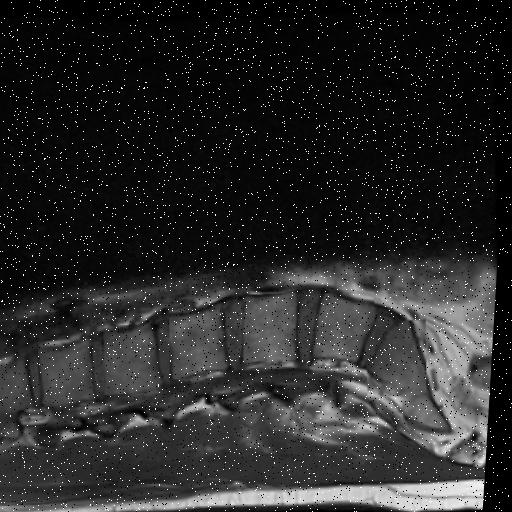L1: (43, 339, 98, 402)
L2: (108, 322, 165, 393)
L3: (173, 302, 229, 377)
L4: (248, 290, 301, 359)
L5: (318, 290, 378, 358)
S1: (371, 317, 431, 392)
